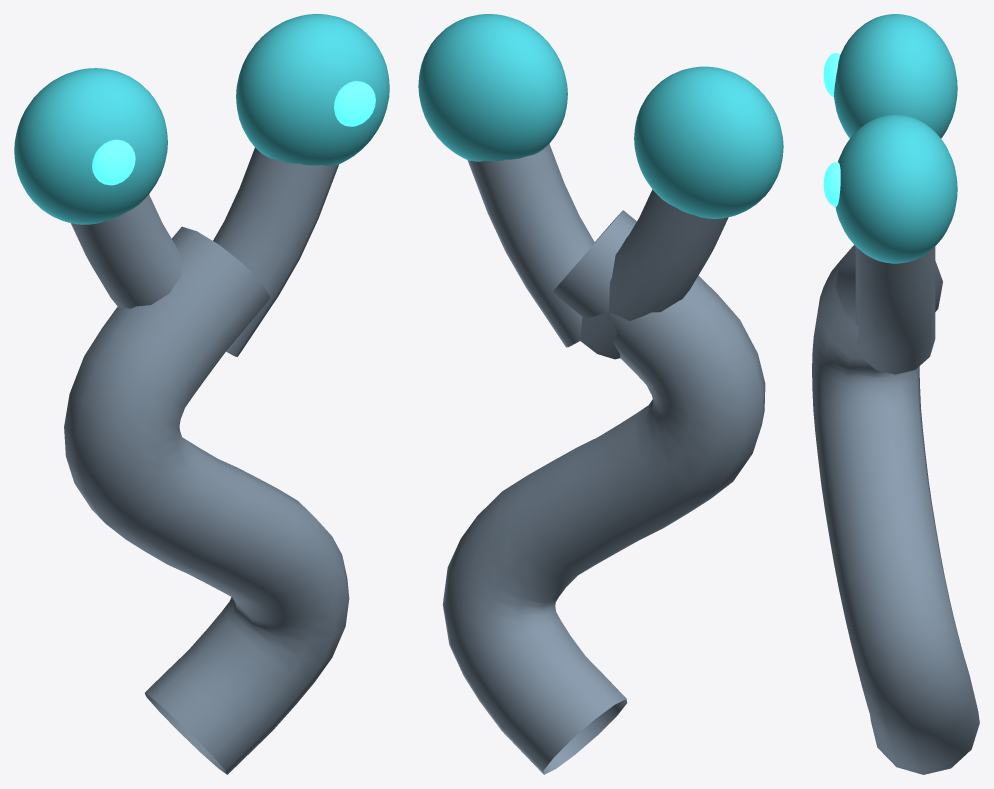
The model's file is serpent_v3.glb.
The picture shows the model from 3 angles, left to right: view 1: azimuth 30°, elevation 25°; view 2: azimuth 150°, elevation 25°; view 3: azimuth 270°, elevation 25°; orthographic projection. The views are drawn at different scales.
Parts seen in each view (by area): view 1: SERPENT_COIL_PRIMARY, TWIN_HEAD_ACCENT, TWIN_HEAD_ACCENT.001, TWIN_NECK_PRIMARY.001, TWIN_NECK_PRIMARY, EYE_EMISSIVE, EYE_EMISSIVE.001; view 2: SERPENT_COIL_PRIMARY, TWIN_HEAD_ACCENT, TWIN_HEAD_ACCENT.001, TWIN_NECK_PRIMARY.001, TWIN_NECK_PRIMARY; view 3: SERPENT_COIL_PRIMARY, TWIN_HEAD_ACCENT.001, TWIN_HEAD_ACCENT, TWIN_NECK_PRIMARY.001, EYE_EMISSIVE.001, EYE_EMISSIVE.
Boxes of the visible parts, x1,y1,x2,y2 form: SERPENT_COIL_PRIMARY: (64, 226, 349, 774); TWIN_HEAD_ACCENT: (14, 68, 167, 224); TWIN_HEAD_ACCENT.001: (236, 14, 389, 165); TWIN_NECK_PRIMARY.001: (213, 147, 338, 356); TWIN_NECK_PRIMARY: (71, 194, 182, 308); EYE_EMISSIVE: (92, 139, 135, 185); EYE_EMISSIVE.001: (334, 81, 375, 126); SERPENT_COIL_PRIMARY: (442, 210, 765, 774); TWIN_HEAD_ACCENT: (634, 66, 783, 218); TWIN_HEAD_ACCENT.001: (418, 14, 567, 161); TWIN_NECK_PRIMARY.001: (467, 144, 594, 347); TWIN_NECK_PRIMARY: (580, 189, 728, 359); SERPENT_COIL_PRIMARY: (812, 245, 979, 774); TWIN_HEAD_ACCENT.001: (835, 114, 957, 263); TWIN_HEAD_ACCENT: (834, 14, 957, 138); TWIN_NECK_PRIMARY.001: (855, 246, 935, 374); EYE_EMISSIVE.001: (823, 162, 840, 206); EYE_EMISSIVE: (823, 53, 840, 96).
Bounding box in the file's own units: 1.56 × 3.06 × 0.6759.
